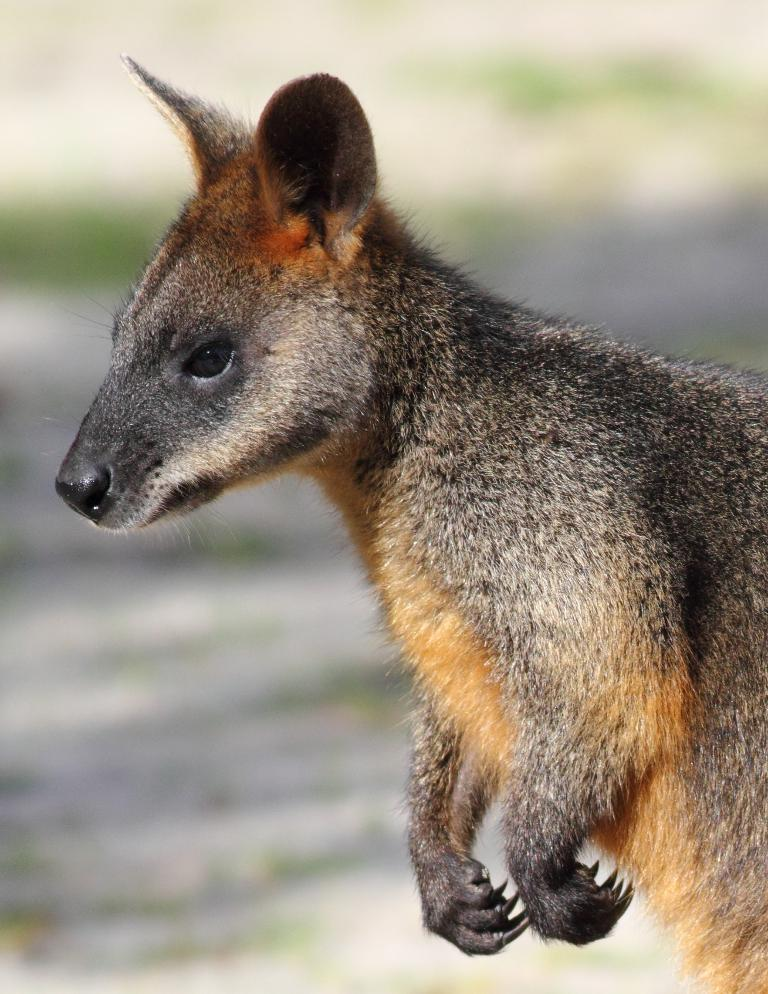kangaroo: (58, 51, 768, 993)
